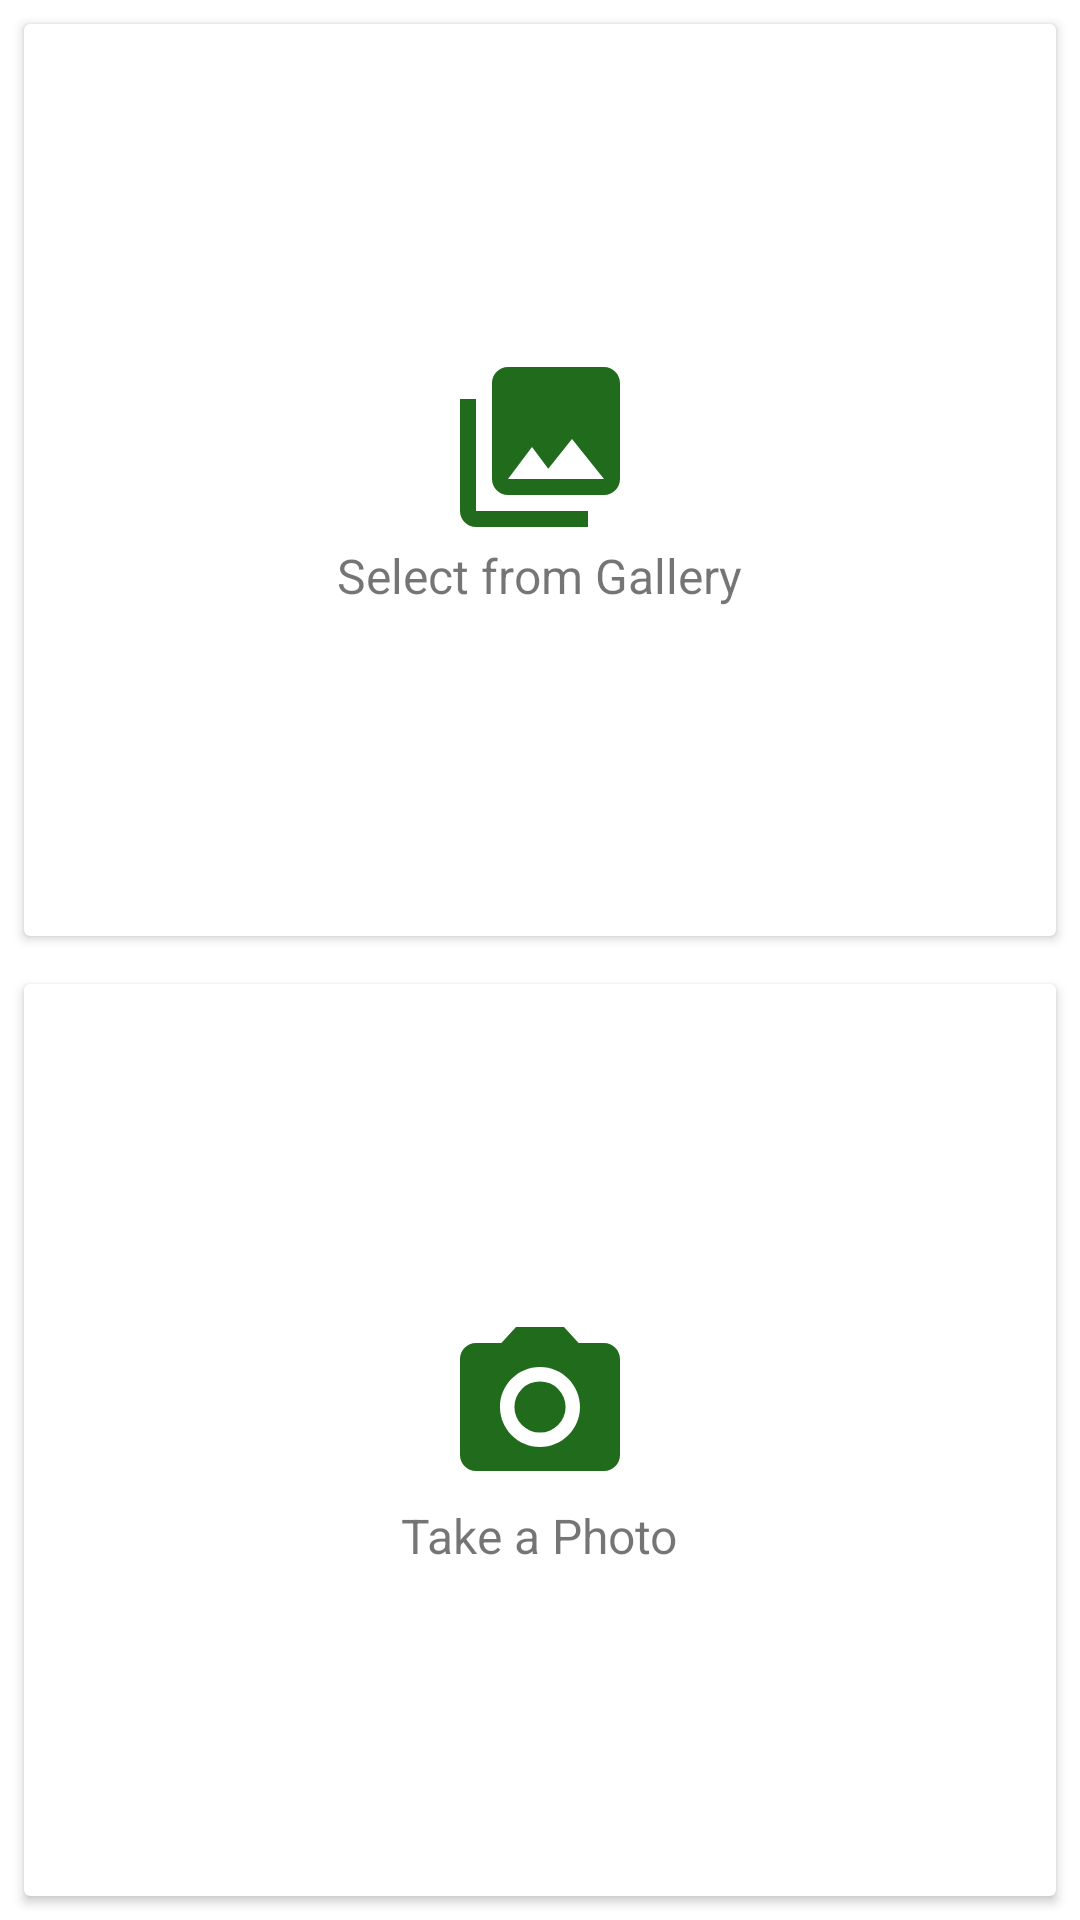

Icons on this 1080 x 1920 Android screen, each with its box as (x1, y1, x2, y2):
Camera Icon: (460, 1327, 620, 1471)
